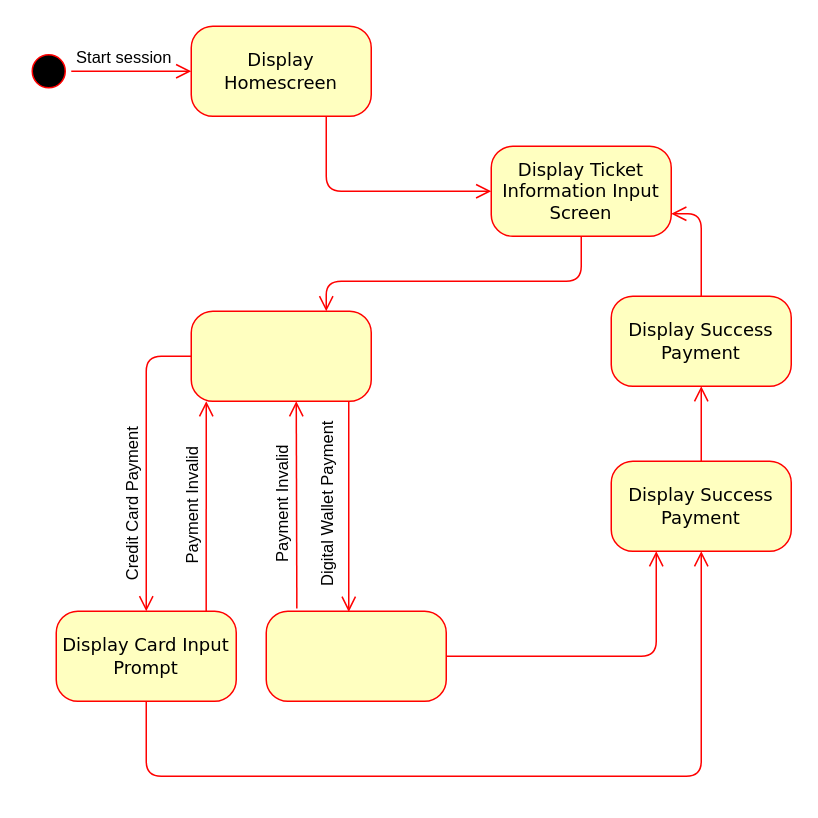
This 818x818 diagram has some shape labels left out. The shapes that lost their labels are listed below. From the top down, each one's box as (x1, y1, x2, y2) in pixels, then its label:
(190, 310, 371, 401): Display Payment Screen
(265, 610, 446, 701): Display QR Code
